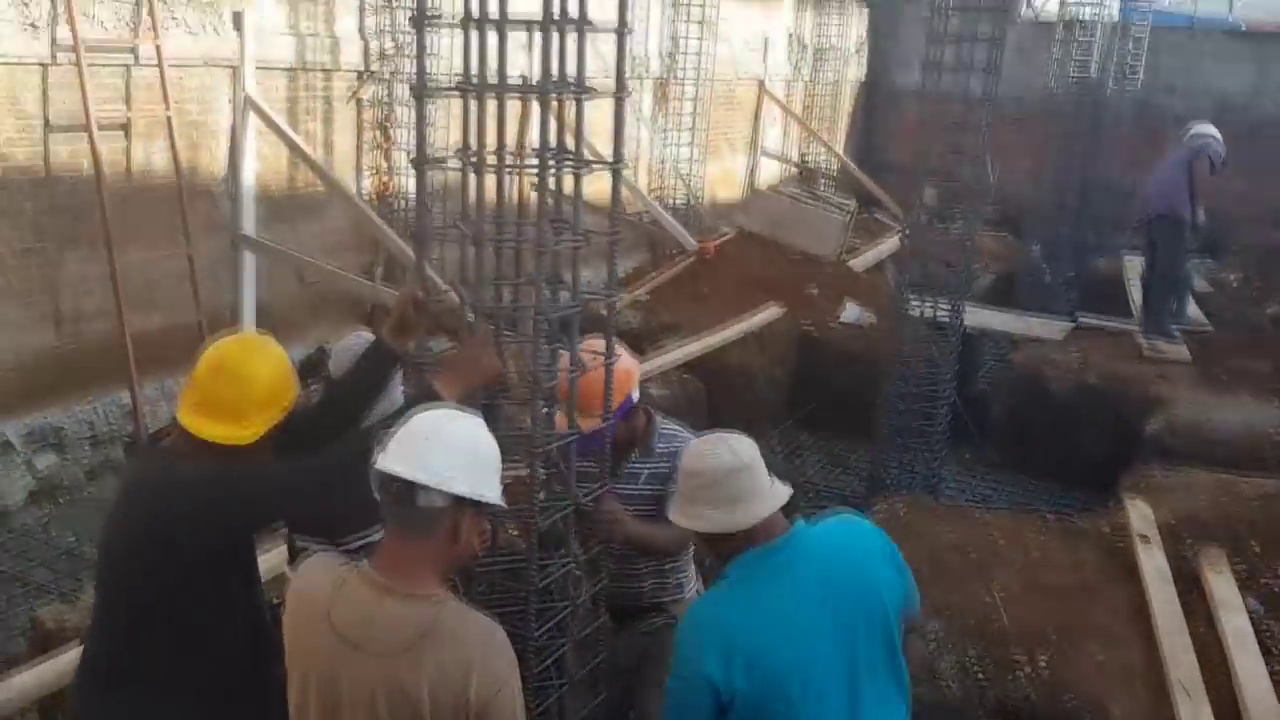helmet: (167, 331, 297, 449), (374, 412, 512, 519), (550, 326, 642, 433), (1177, 116, 1228, 146)
helmet-off: (672, 431, 798, 583), (325, 331, 411, 413)
helmet-on: (350, 406, 513, 600), (146, 326, 308, 469), (554, 327, 658, 470), (1177, 118, 1227, 170)
person: (62, 304, 456, 712), (651, 440, 927, 717), (286, 406, 529, 715), (546, 303, 690, 679), (301, 326, 411, 572), (1135, 102, 1228, 357)
